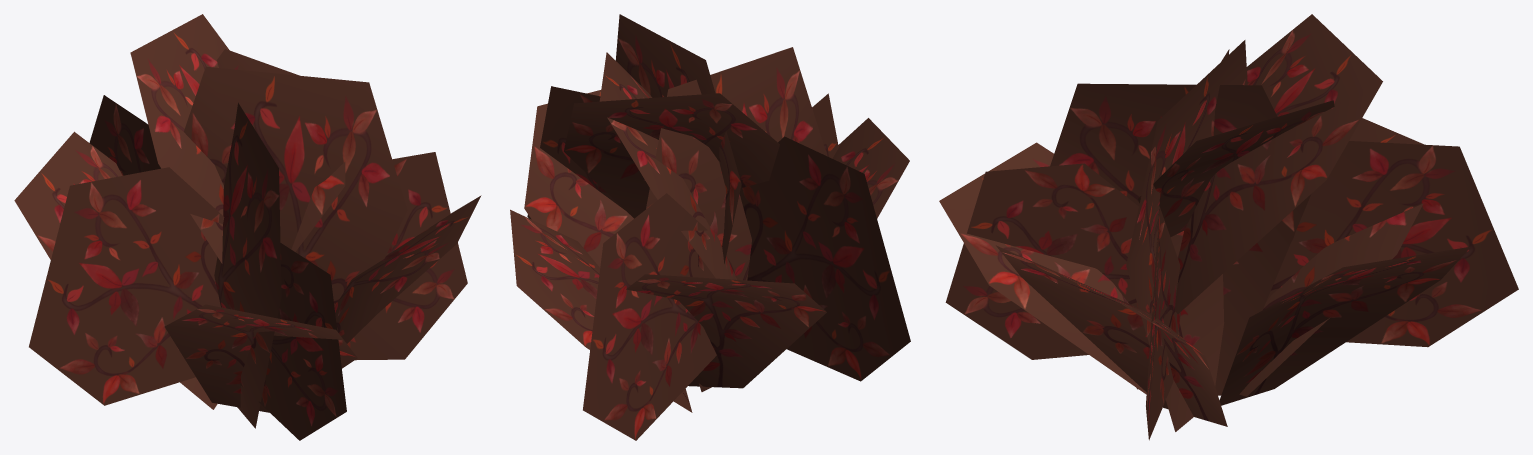
The model's file is bush1.fbx.
3 views of the same model, side by side, from view 1: azimuth 30°, elevation 25°; view 2: azimuth 150°, elevation 25°; view 3: azimuth 270°, elevation 25° (orthographic). The views are drawn at different scales.
Visible parts, largest first — view 1: bush1; view 2: bush1; view 3: bush1.
Boxes of the visible parts, x1=… form: bush1: x1=14, y1=14, x2=481, y2=440; bush1: x1=510, y1=14, x2=910, y2=440; bush1: x1=939, y1=14, x2=1518, y2=440.
Size of the model in its own units: 271 by 210 by 313.
